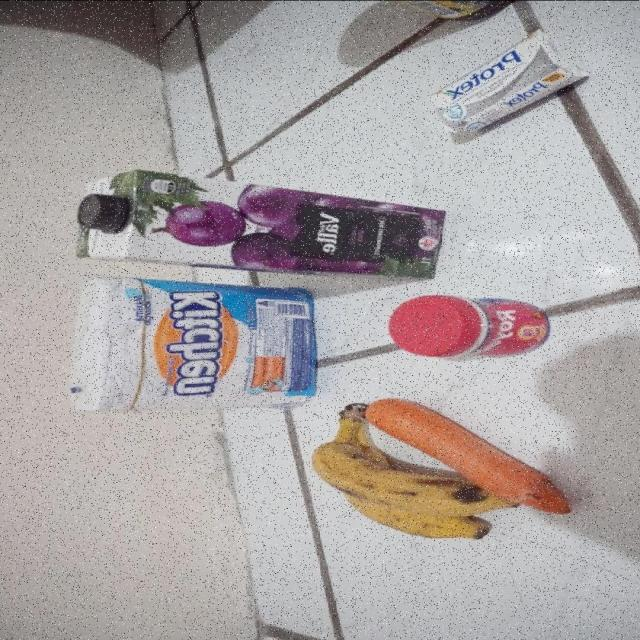Banana: (311, 401, 517, 539)
Carrot: (363, 398, 574, 515)
ChocolatePowder: (351, 0, 524, 23)
Napkin: (64, 274, 317, 416)
Soap: (428, 29, 594, 135)
Yeast: (388, 293, 552, 360)
